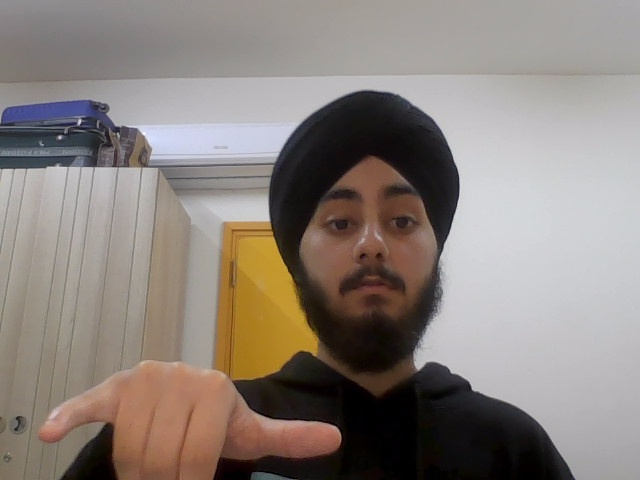Same: (39, 357, 344, 480)
